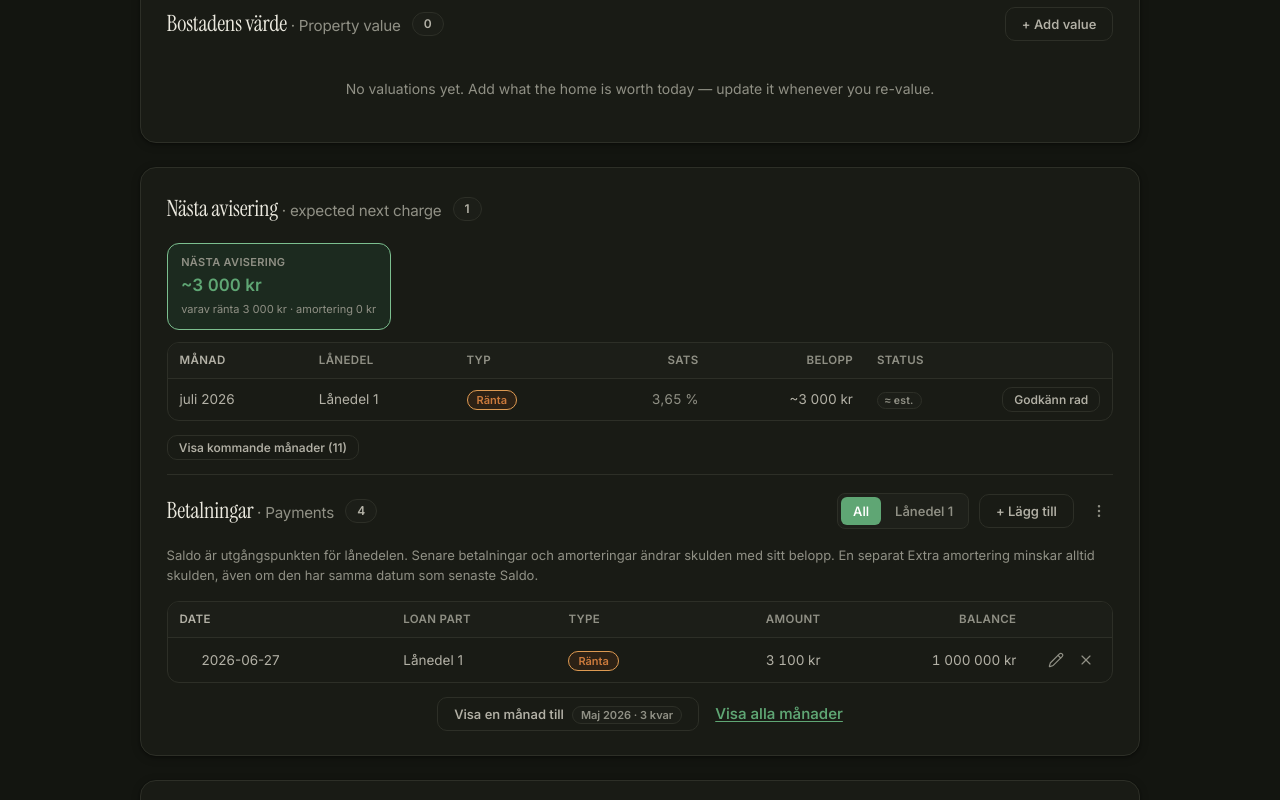
Bolånekoll forecast — confirm-to-log (plan 23 phase C) › logs the expected charge as a predicted row; the block rolls to the next month
(page scrolled)
Step 1. Click the button "Godkänn rad" → {"x": 1051, "y": 400}, box top-left (1002, 387), bottom-right (1100, 412)
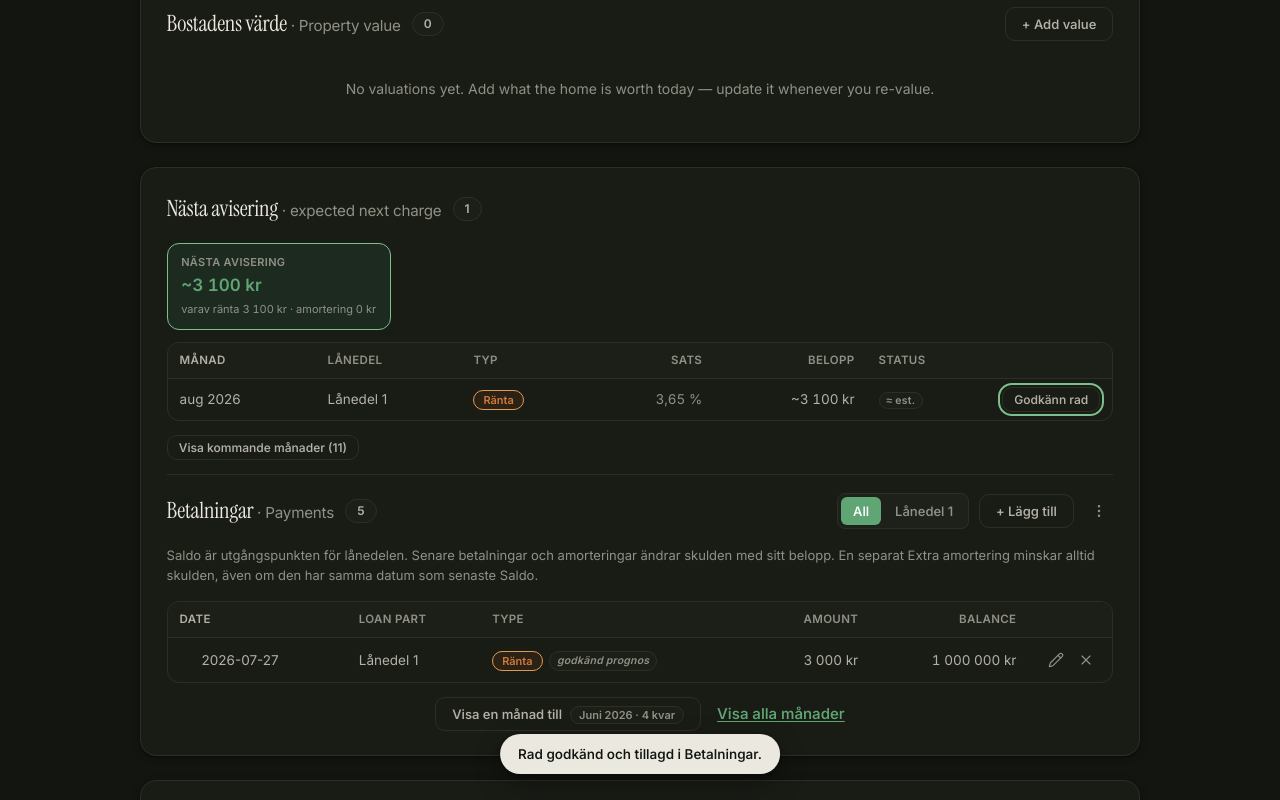
Check: the text "Rad godkänd och tillagd i Betalningar." is shown, box top-left (500, 734), bottom-right (780, 774)
Check: the cell with class "col-date" reads "aug 2026", box top-left (180, 391), bottom-right (241, 407)
